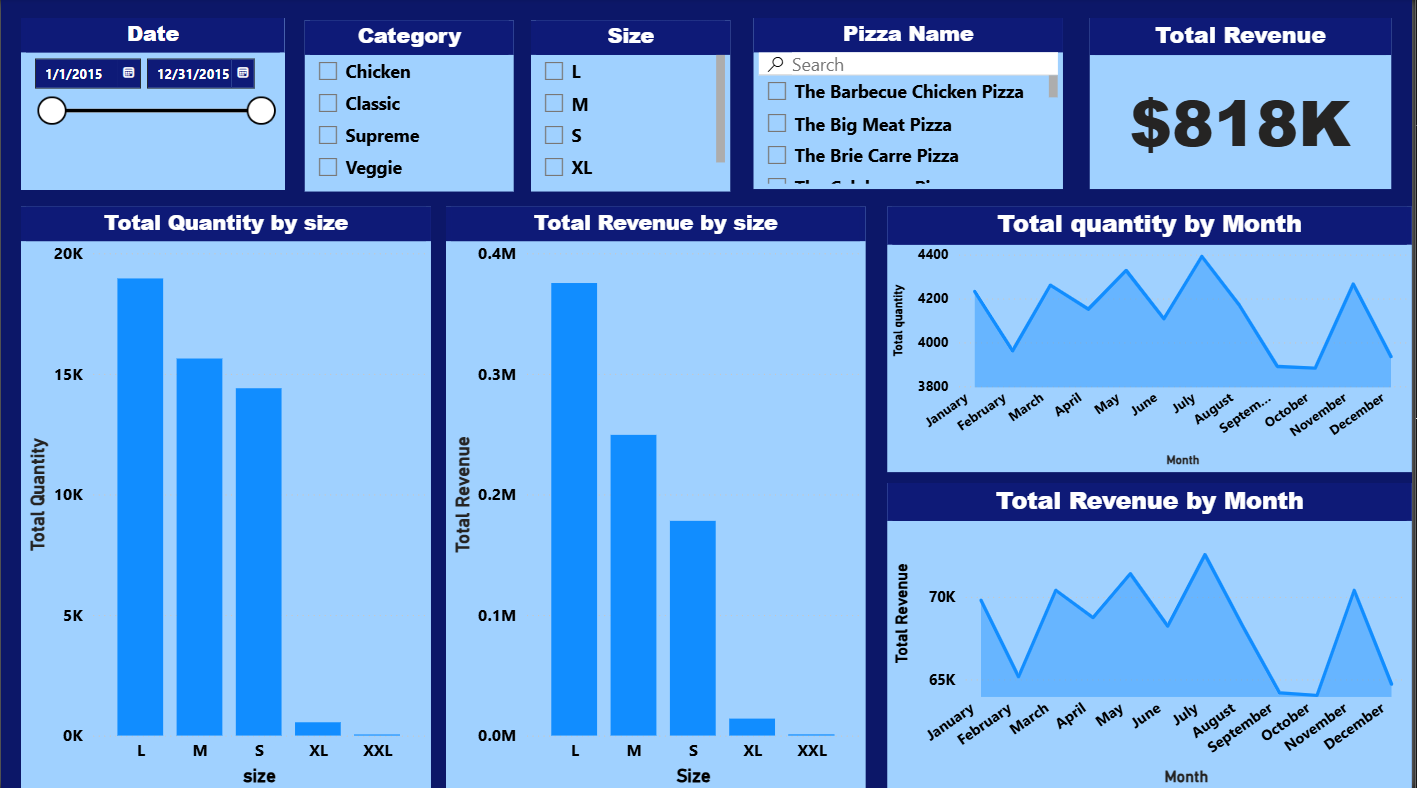

The dashboard page shown, as its layout file describes it:
{"tool":"powerbi","page":{"name":"Page 1","canvas":[1280,720],"ordinal":0},"visuals":[{"type":"slicer","title":"Date","fields":{"Values":["orders.date"]},"box":[18.5,18.5,239.5,155.4],"z":0},{"type":"slicer","title":"Category","fields":{"Values":["pizza_types.category"]},"box":[275.1,20,189.6,155.4],"z":1000},{"type":"lineChart","title":"Total quantity by Month","fields":{"Y":["Sum(order_details.quantity)"],"Category":["orders.date.Variation.Date Hierarchy.Month"]},"box":[803.9,189.6,476.1,240.9],"z":2000},{"type":"slicer","title":"Pizza Name","fields":{"Values":["pizza_types.name"]},"box":[682.8,18.5,280.8,155.4],"z":3000},{"type":"card","title":"Total Revenue","fields":{"Values":["order_details.TotalSales"]},"box":[987.8,18.5,273.7,155.4],"z":4000},{"type":"lineClusteredColumnComboChart","title":"Total Revenue by size","fields":{"Category":["pizzas.size"],"Y":["order_details.TotalSales"]},"box":[403.4,189.6,380.6,530.2],"z":5000},{"type":"lineChart","title":"Total Revenue by Month","fields":{"Category":["orders.date.Variation.Date Hierarchy.Month"],"Y":["order_details.TotalSales"]},"box":[804.2,440.1,476.4,280.2],"z":6000},{"type":"lineClusteredColumnComboChart","title":"Total Quantity by size","fields":{"Category":["pizzas.size"],"Y":["Sum(order_details.quantity)"]},"box":[18.5,189.6,372,530.2],"z":7000},{"type":"slicer","title":"Size","fields":{"Values":["pizzas.size"]},"box":[480.4,20,181,155.4],"z":8000}]}

Visuals, with their boxes in screenshot pixels (x1, y1, x2, y2), scaled from the page's 1280x720 canvas onto the 1417x788 screenshot:
"Date" slicer: rect(20, 20, 286, 190)
"Category" slicer: rect(305, 22, 514, 192)
"Total quantity by Month" lineChart: rect(890, 208, 1416, 471)
"Pizza Name" slicer: rect(756, 20, 1067, 190)
"Total Revenue" card: rect(1094, 20, 1397, 190)
"Total Revenue by size" lineClusteredColumnComboChart: rect(447, 208, 868, 787)
"Total Revenue by Month" lineChart: rect(890, 482, 1416, 787)
"Total Quantity by size" lineClusteredColumnComboChart: rect(20, 208, 432, 787)
"Size" slicer: rect(532, 22, 732, 192)
